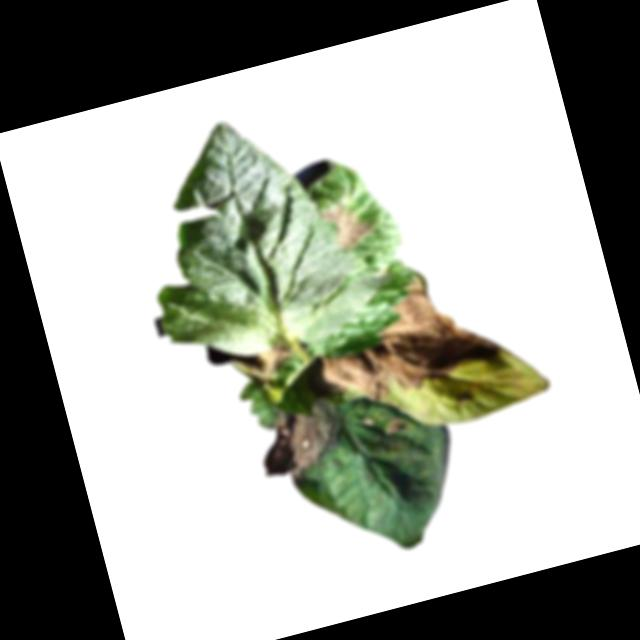Late_blight: (291, 263, 505, 416), (246, 388, 350, 484), (316, 196, 379, 255), (232, 344, 295, 387), (379, 412, 404, 437)
healthy: (116, 92, 394, 376)
